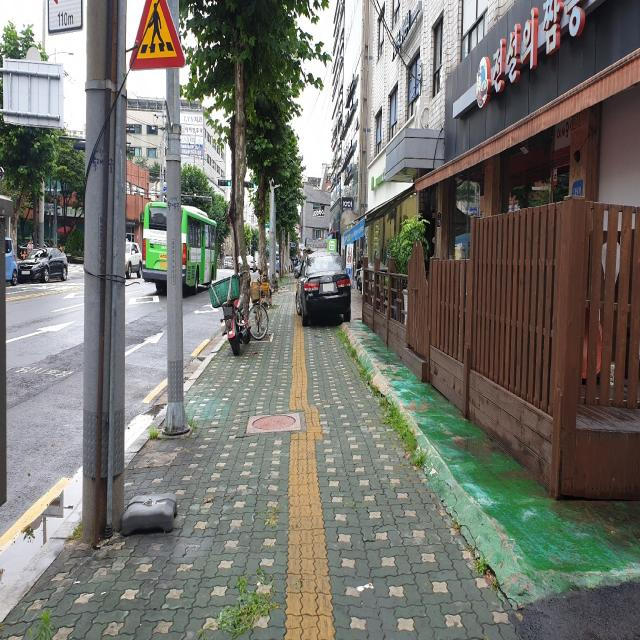car: (295, 252, 351, 326)
motorbike: (208, 256, 252, 357)
